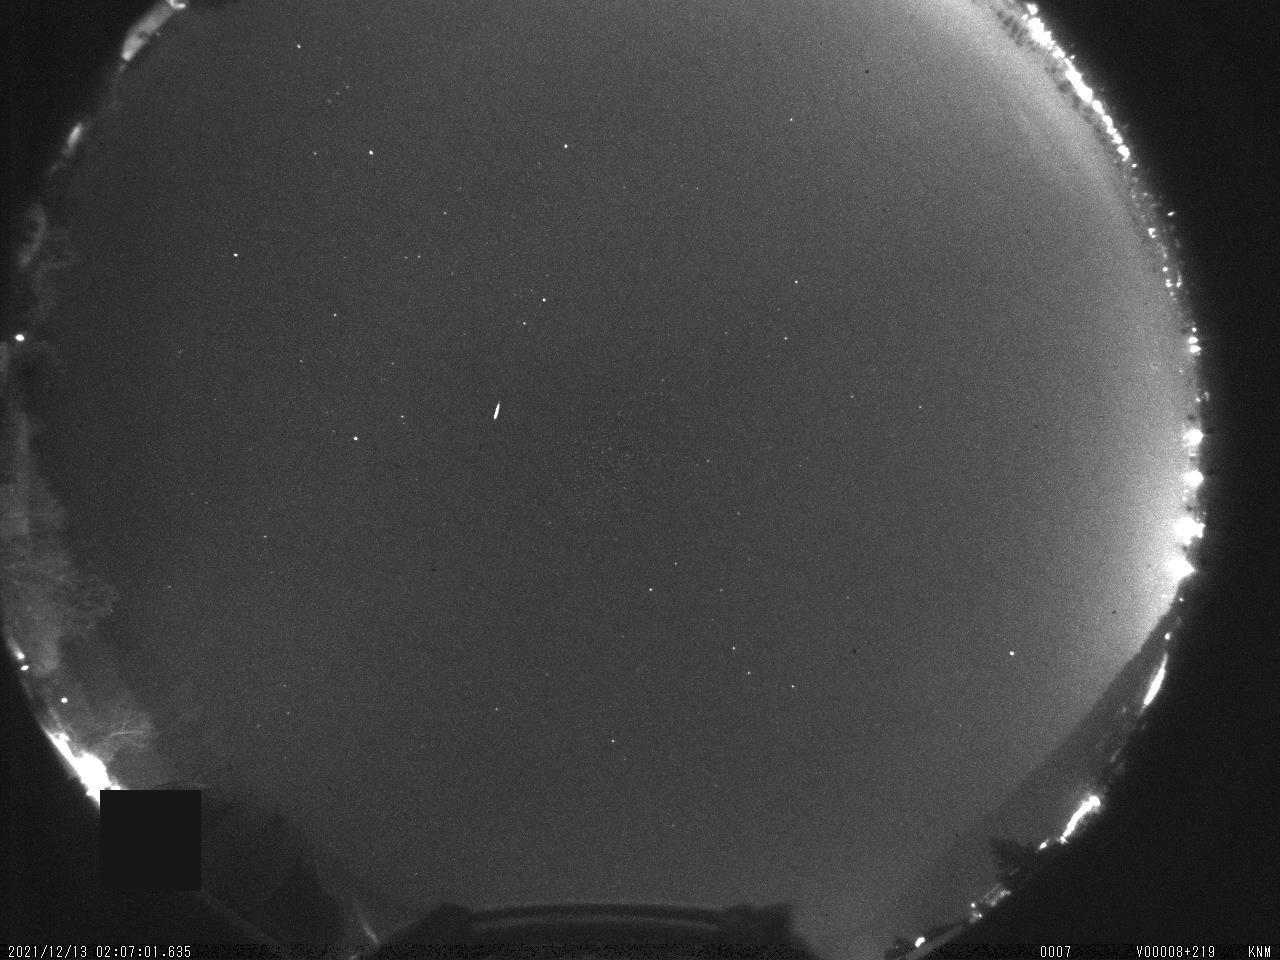Meteor: (490, 395, 504, 423)
